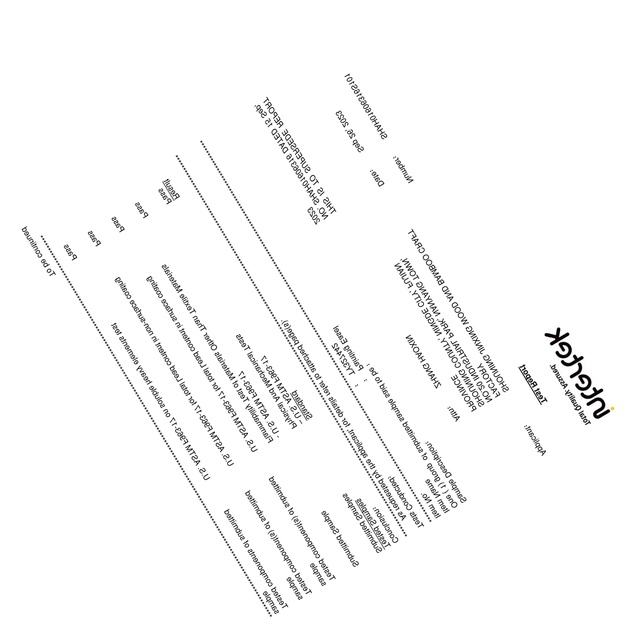intertek: (544, 325, 617, 421)
